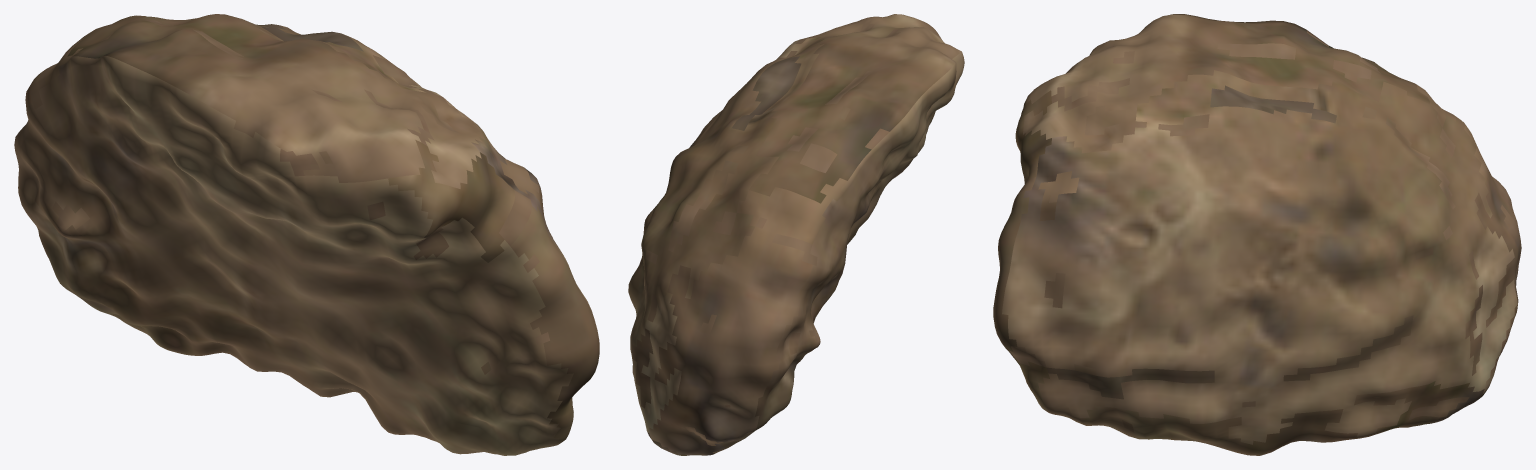
Rendered from Big-Rock-1-tex.fbx.
3 views of the same model, side by side, from view 1: azimuth 30°, elevation 25°; view 2: azimuth 150°, elevation 25°; view 3: azimuth 270°, elevation 25° (orthographic). The views are drawn at different scales.
Parts seen in each view (by area): view 1: rock.001; view 2: rock.001; view 3: rock.001.
Boxes of the visible parts, box(x1,y1,x2,y2) form: rock.001: box(14, 14, 599, 455); rock.001: box(628, 14, 964, 455); rock.001: box(993, 14, 1521, 455).
Size of the model in its own units: 499 by 629 by 867.
